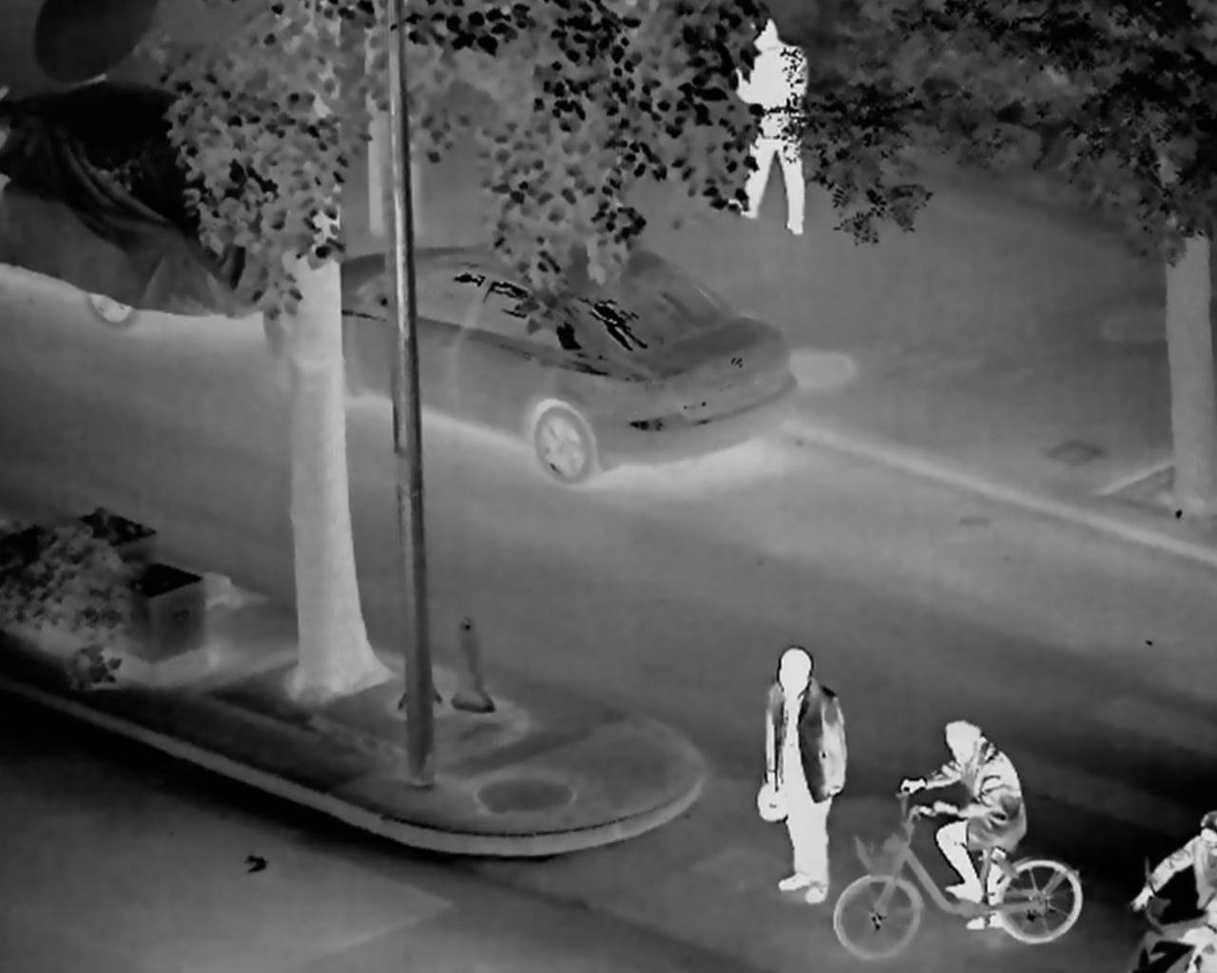person: (898, 720, 1028, 930), (759, 645, 848, 907), (729, 15, 808, 236), (1128, 808, 1216, 969)
